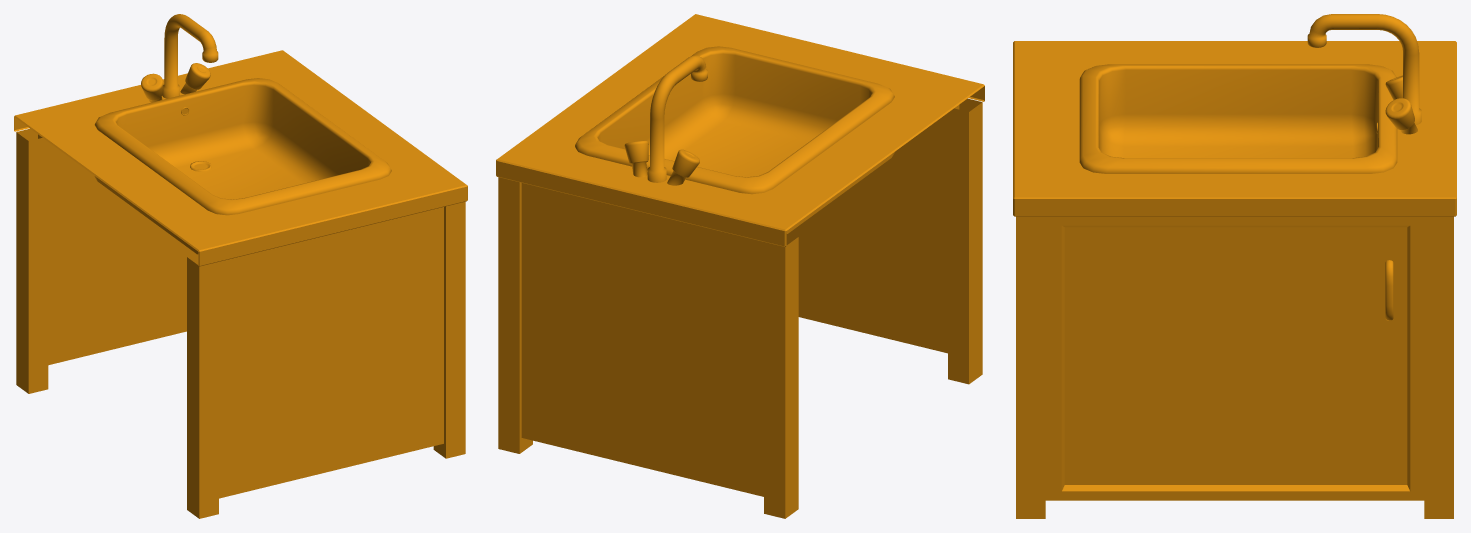
Rendered from G_Sink_01.fbx.
The picture shows the model from 3 angles, left to right: view 1: azimuth 30°, elevation 25°; view 2: azimuth 150°, elevation 25°; view 3: azimuth 270°, elevation 25°; orthographic projection. The views are drawn at different scales.
Visible parts, largest first — view 1: sink; view 2: sink; view 3: sink.
Boxes of the visible parts, <box> form: sink: <box>14,14,467,518</box>; sink: <box>496,14,984,518</box>; sink: <box>1013,14,1456,518</box>.
Size of the model in its own units: 1055 by 1334 by 1251.
